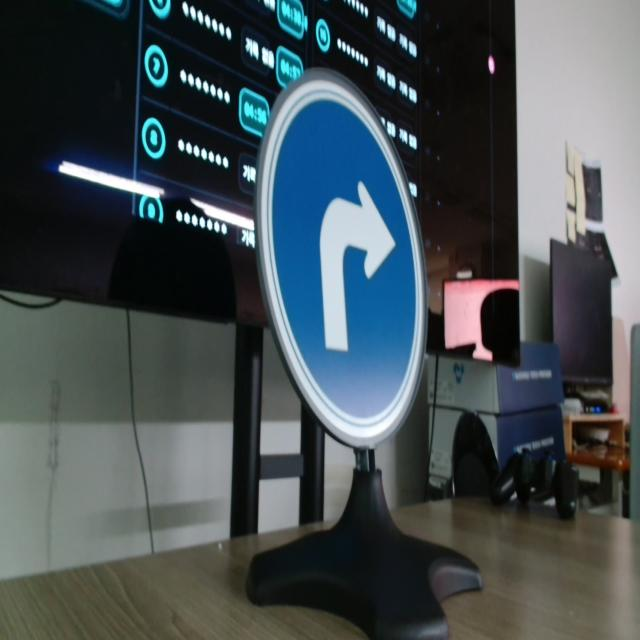right_dierection: (245, 57, 444, 468)
